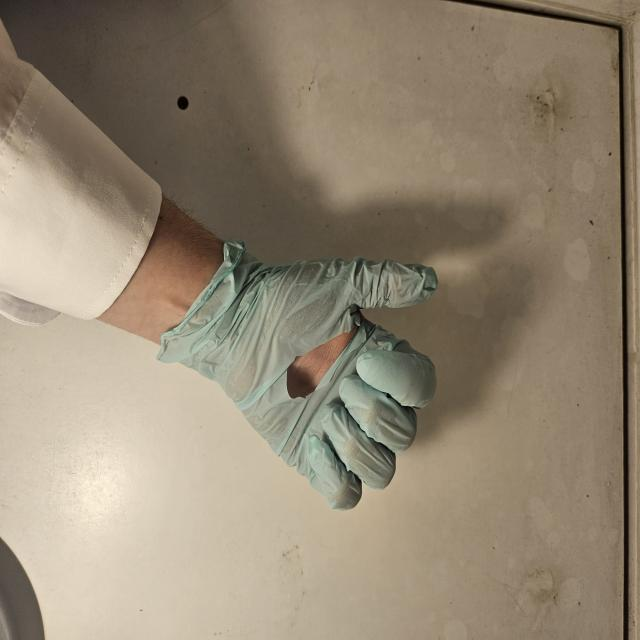gloves_damaged: (158, 234, 440, 511)
